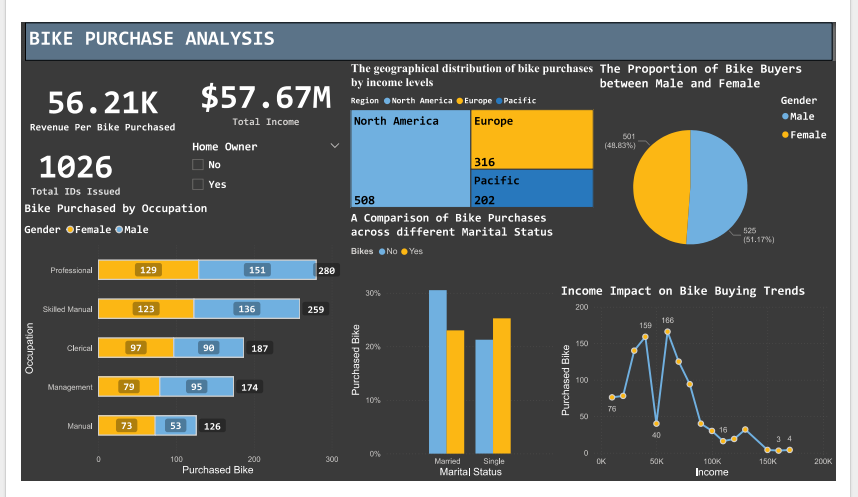

Layout of this report page (visuals, bound fields, positions):
{"tool":"powerbi","page":{"name":"Page 1","canvas":[1280,720],"ordinal":0},"visuals":[{"type":"textbox","box":[5.9,0,1269.6,60.2],"z":0},{"type":"pieChart","title":"The Proportion of Bike Buyers between Male and Female","fields":{"Y":["CountNonNull(bike_buyers.Purchased Bike)"],"Category":["bike_buyers.Gender"]},"box":[903.6,60.7,375.9,349.9],"z":1000},{"type":"lineChart","title":"Income Impact on Bike Buying Trends","fields":{"Category":["bike_buyers.Income"],"Y":["CountNonNull(bike_buyers.Purchased Bike)"]},"box":[843.4,410,436.4,310],"z":2000},{"type":"clusteredColumnChart","title":"A Comparison of Bike Purchases across different Marital Status","fields":{"Category":["bike_buyers.Marital Status"],"Y":["CountNonNull(bike_buyers.Purchased Bike)"],"Series":["bike_buyers.Purchased Bike"]},"box":[513.3,296.4,329.6,423.6],"z":3000},{"type":"barChart","title":"Bike Purchased by Occupation","fields":{"Category":["bike_buyers.Occupation"],"Y":["CountNonNull(bike_buyers.Purchased Bike)"],"Series":["bike_buyers.Gender"]},"box":[0,280.7,512.8,436.4],"z":4000},{"type":"treemap","title":"The geographical distribution of bike purchases by income levels","fields":{"Group":["bike_buyers.Region"],"Values":["CountNonNull(bike_buyers.Purchased Bike)"]},"box":[513.3,60.7,390.4,235.7],"z":5000},{"type":"card","fields":{"Values":["bike_buyers.Total IDs Issued"]},"box":[0,180.7,170.6,99.8],"z":6000},{"type":"card","fields":{"Values":["bike_buyers.Total Income"]},"box":[255.9,60.7,257.3,120],"z":7000},{"type":"card","fields":{"Values":["bike_buyers.Revenue Per Bike Purchased"]},"box":[0,60.7,255.9,137.3],"z":8000},{"type":"slicer","fields":{"Values":["bike_buyers.Home Owner"]},"box":[255.9,179.3,257.3,101.2],"z":9000}]}

Visuals, with their boxes in screenshot pixels (x1, y1, x2, y2), scaled from the page's 1280x720 canvas onto the 858x497 screenshot:
textbox: {"left": 4, "top": 0, "right": 855, "bottom": 42}
"The Proportion of Bike Buyers between Male and Female" pieChart: {"left": 606, "top": 42, "right": 857, "bottom": 283}
"Income Impact on Bike Buying Trends" lineChart: {"left": 565, "top": 283, "right": 857, "bottom": 496}
"A Comparison of Bike Purchases across different Marital Status" clusteredColumnChart: {"left": 344, "top": 205, "right": 565, "bottom": 496}
"Bike Purchased by Occupation" barChart: {"left": 0, "top": 194, "right": 344, "bottom": 495}
"The geographical distribution of bike purchases by income levels" treemap: {"left": 344, "top": 42, "right": 606, "bottom": 205}
card - bike_buyers.Total IDs Issued: {"left": 0, "top": 125, "right": 114, "bottom": 194}
card - bike_buyers.Total Income: {"left": 172, "top": 42, "right": 344, "bottom": 125}
card - bike_buyers.Revenue Per Bike Purchased: {"left": 0, "top": 42, "right": 172, "bottom": 137}
slicer - bike_buyers.Home Owner: {"left": 172, "top": 124, "right": 344, "bottom": 194}
